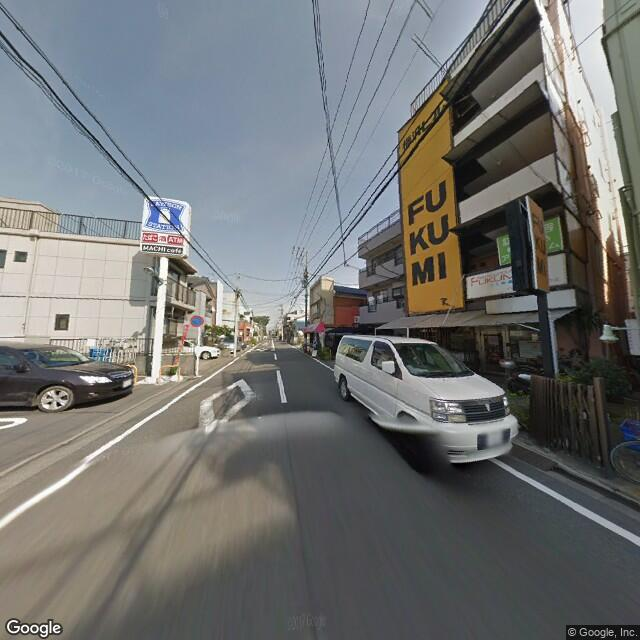lawson: (143, 195, 185, 233)
